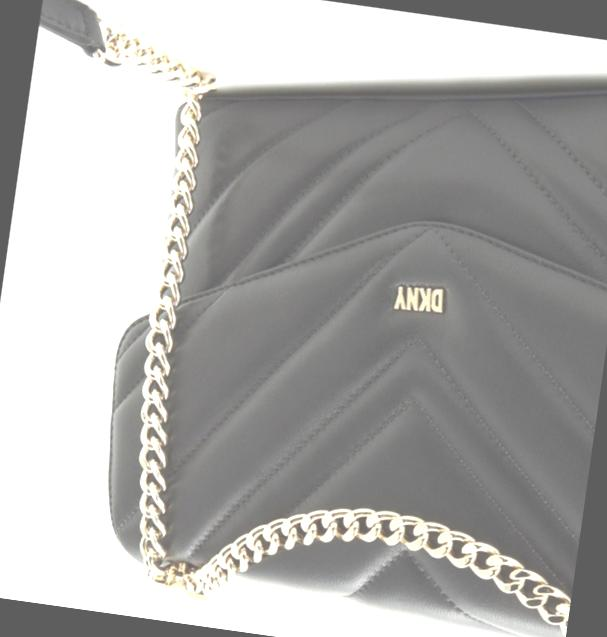DKNY: (393, 282, 445, 315)
